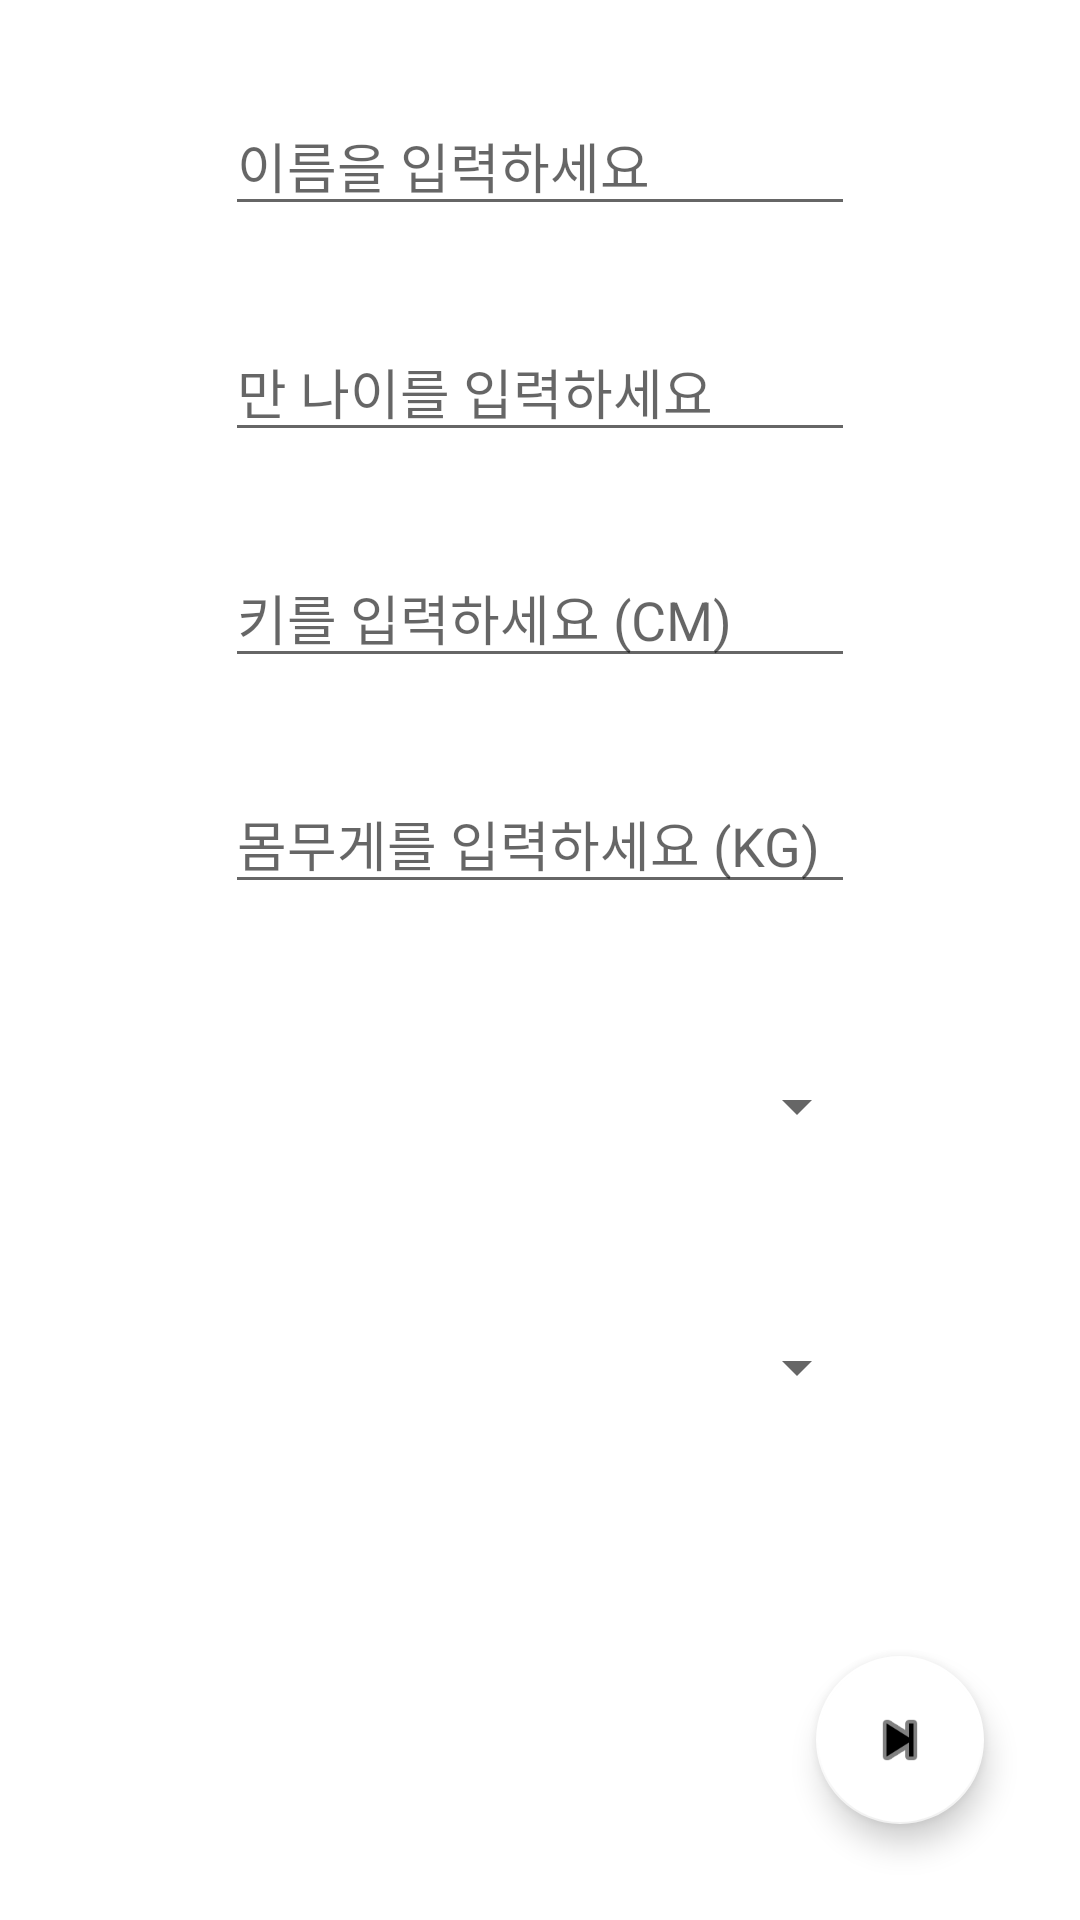

Point at icon controls on the screen. Image size 1080x1920, points as [x,y].
next: [902,1772]
